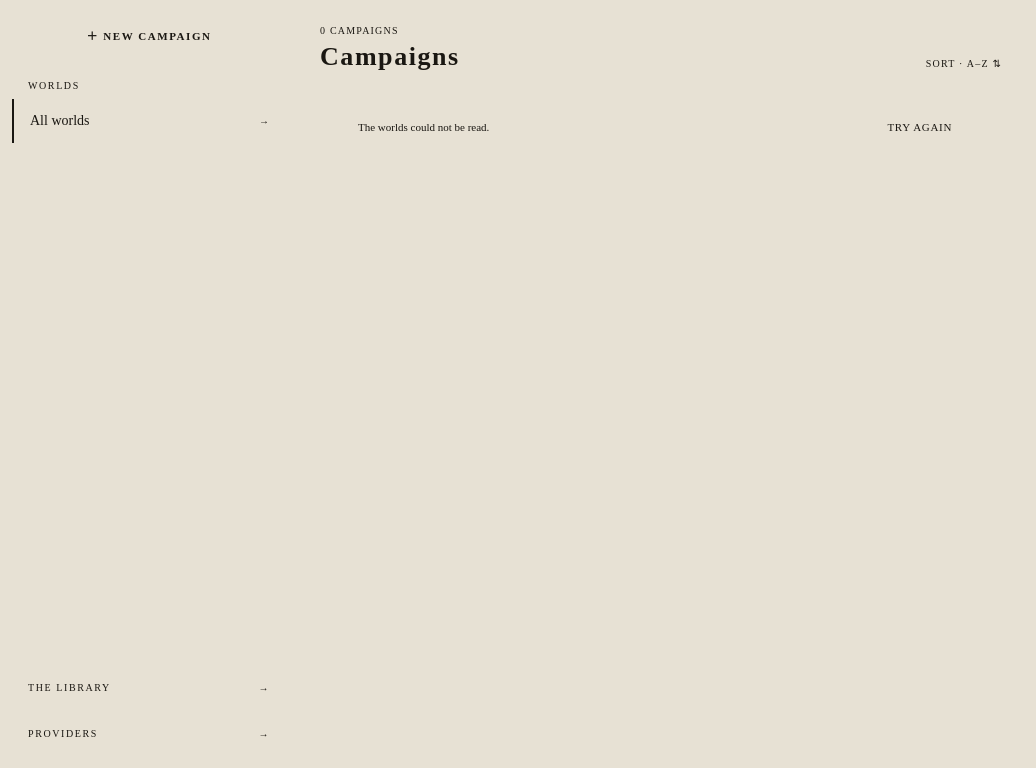
Test case: a failed worlds read shows its banner, says no empty state, and keeps New campaign off
Expected: the text "The worlds could not be read. Try again" is shown, [358,115,964,139]
Expected: the text "no campaigns yet" is not shown
Click the button "Try again" at (920, 127), box [876,115,964,139]
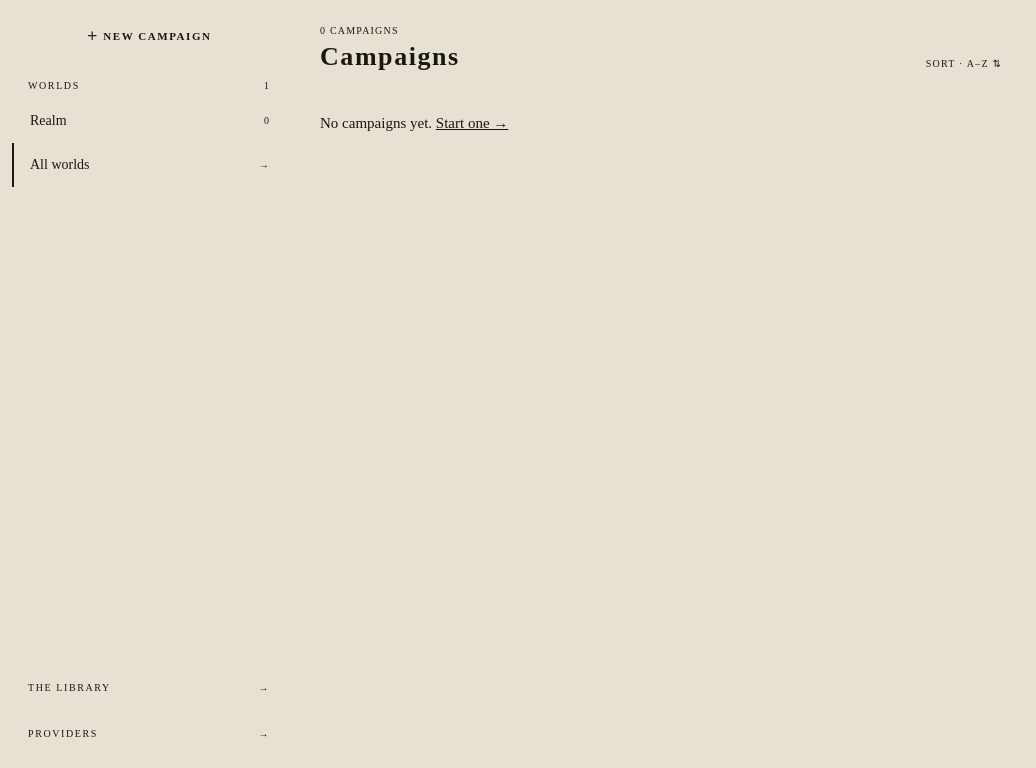
Expected: the button "＋ New campaign" is enabled, [28,14,270,58]
Now the text "could not be read" is gone
